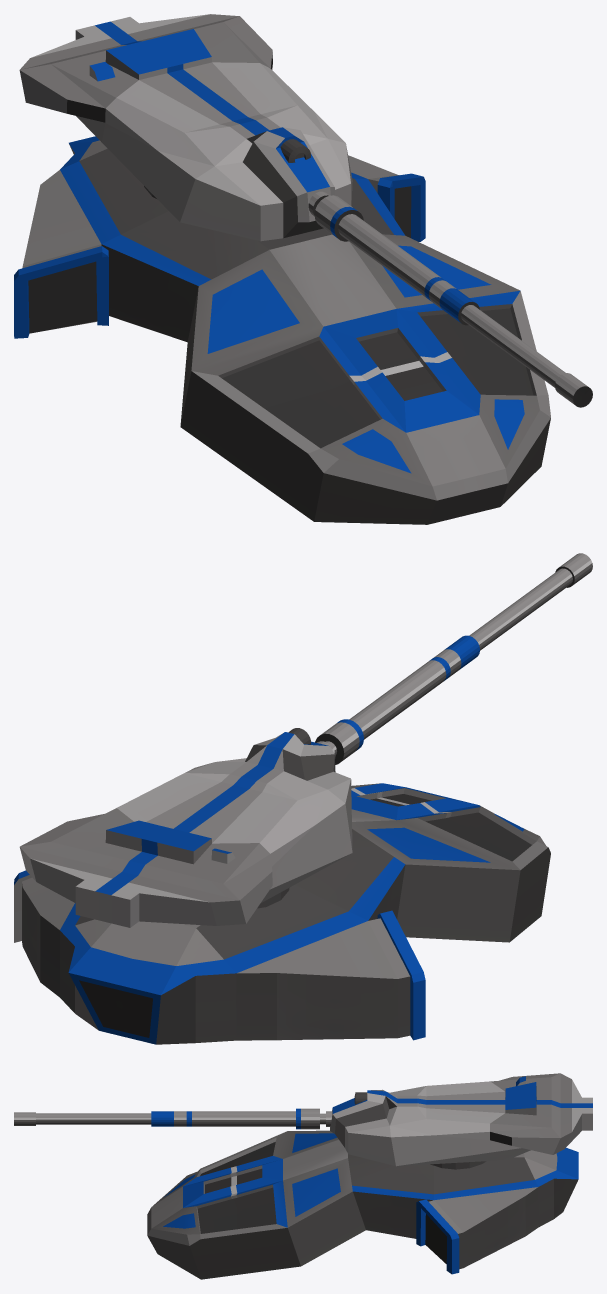
Rendered from tank.fbx.
3 renders of one model, top to bottom at view 1: azimuth 30°, elevation 25°; view 2: azimuth 150°, elevation 25°; view 3: azimuth 270°, elevation 25°, orthographic. The views are drawn at different scales.
Parts seen in each view (by area): view 1: Top, Bottom; view 2: Top, Bottom; view 3: Top, Bottom.
Boxes of the visible parts, x1,y1,x2,y2 form: Top: (14, 136, 550, 524); Bottom: (19, 14, 592, 407); Top: (14, 783, 550, 1044); Bottom: (19, 553, 592, 927); Top: (147, 1130, 578, 1279); Bottom: (14, 1073, 592, 1169).
Bounding box in the file's own units: 379 × 226 × 766.
